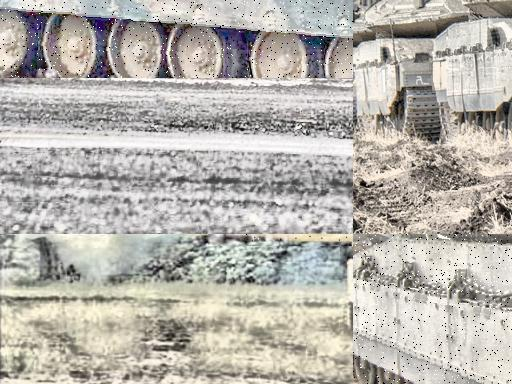tanks: (1, 1, 354, 79), (354, 235, 512, 384), (354, 1, 472, 141), (434, 1, 512, 136), (242, 235, 352, 242), (350, 261, 354, 308)
